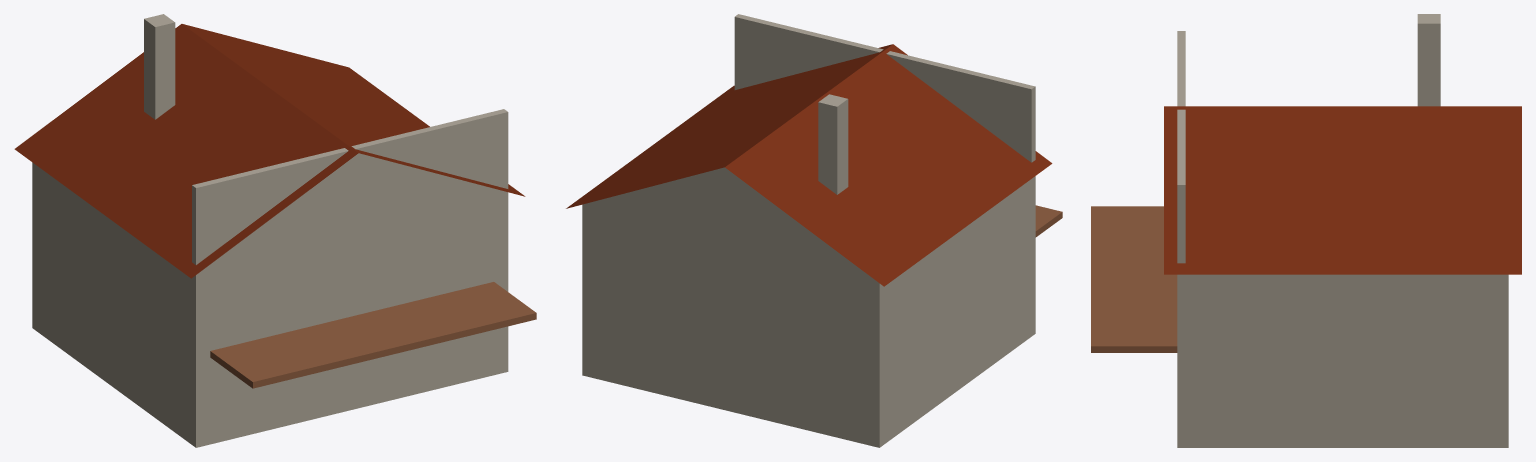
Rendered from cr-mission-house.towns-v1.lod2.glb.
3 renders of one model, left to right at view 1: azimuth 30°, elevation 25°; view 2: azimuth 150°, elevation 25°; view 3: azimuth 270°, elevation 25°, orthographic. The views are drawn at different scales.
Parts seen in each view (by area): view 1: cr-mission-house; view 2: cr-mission-house; view 3: cr-mission-house.
Boxes of the visible parts, box(x1,y1,x2,y2) form: cr-mission-house: box(14, 14, 536, 447); cr-mission-house: box(566, 14, 1062, 447); cr-mission-house: box(1091, 14, 1521, 447).
Size of the model in its own units: 11.8 by 10.6 by 13.
